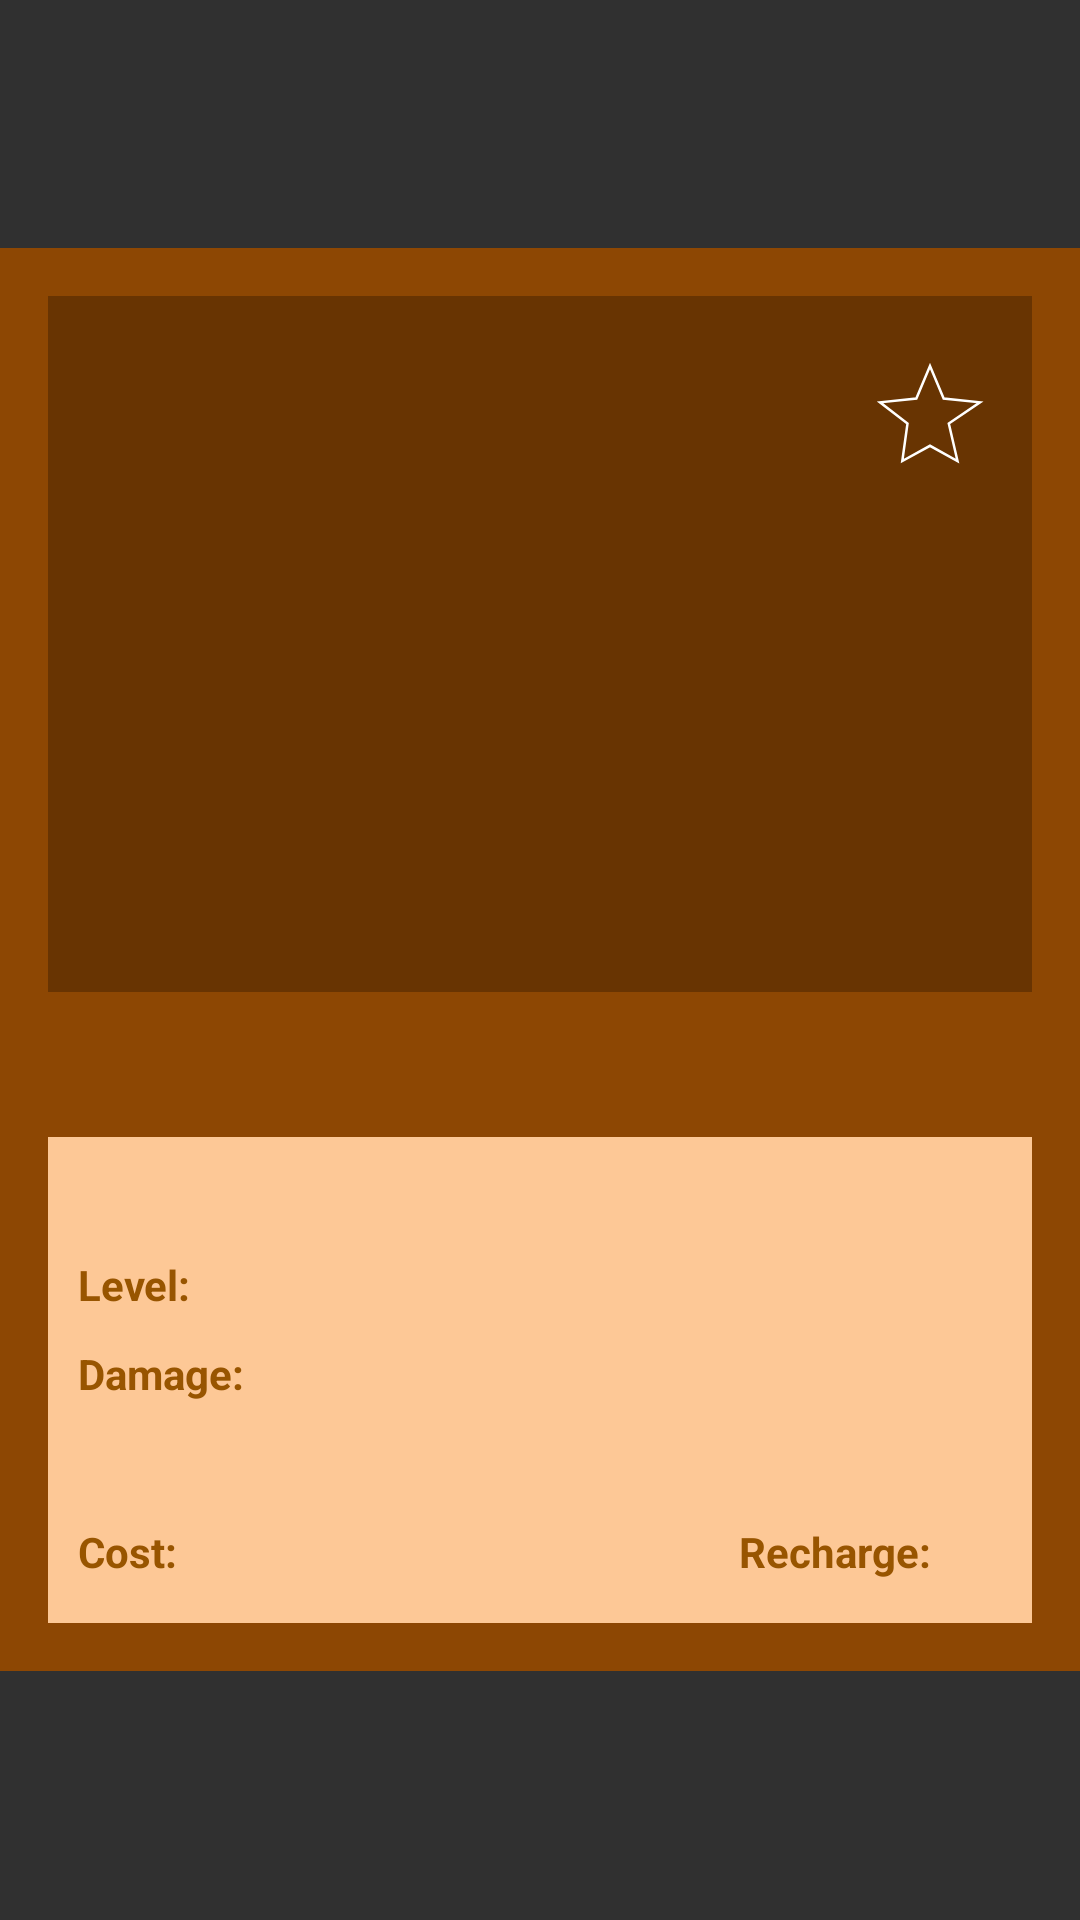

Icon bounding boxes for this 1080 x 1920 phone screenshot, format [x1=x1, y1=y1, x2=x2, y2=y2]:
star: [x1=877, y1=363, x2=983, y2=464]
